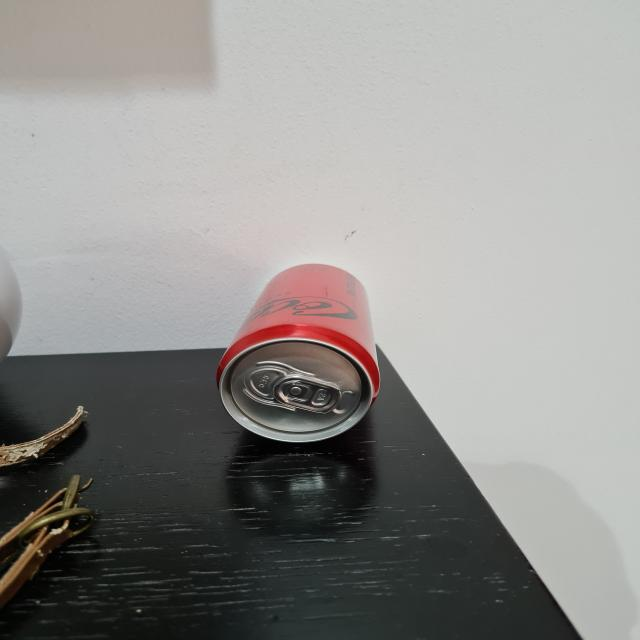non-organic waste: (210, 262, 388, 439)
